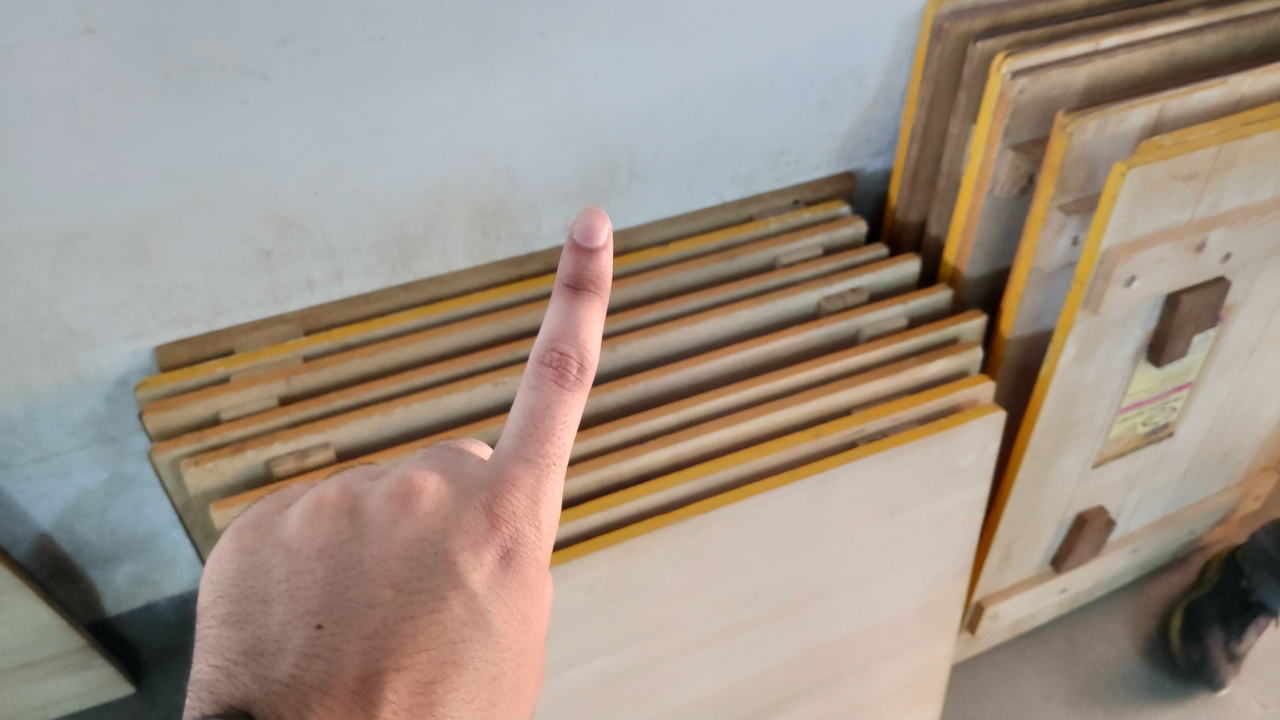fingertip: (558, 198, 622, 258)
